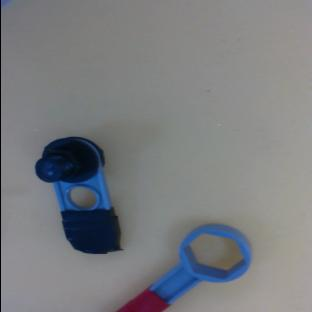part_1_bad: (29, 131, 124, 265)
part_3_good: (98, 211, 260, 312)
